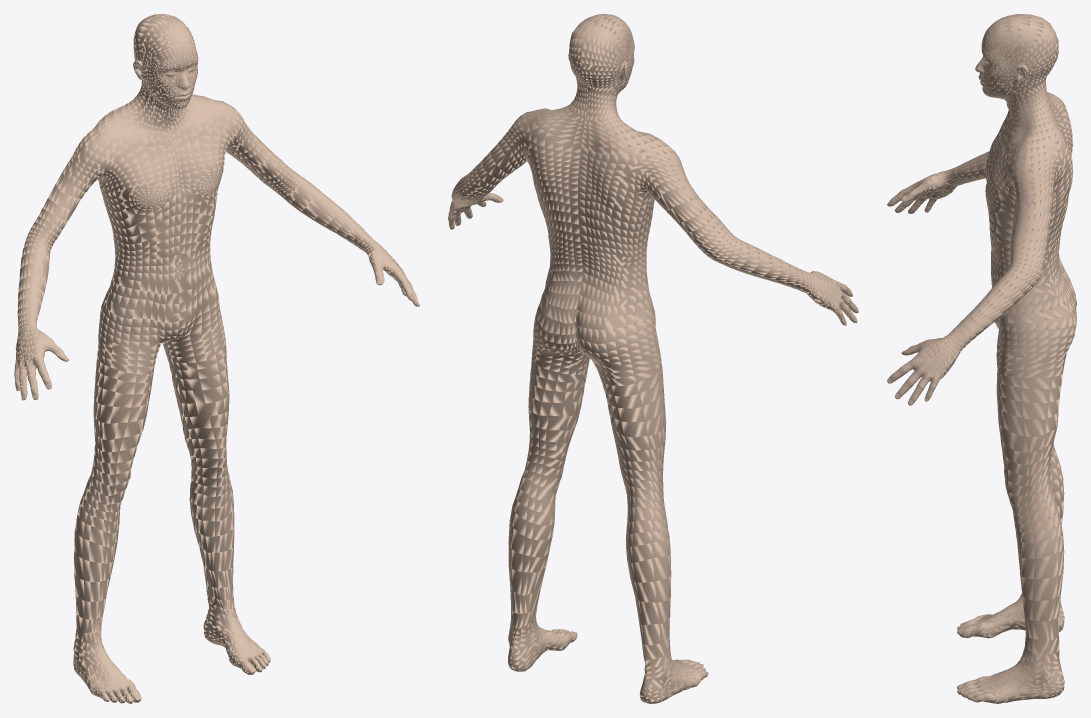
Rendered from male_high_low.glb.
3 views of the same model, side by side, from view 1: azimuth 30°, elevation 25°; view 2: azimuth 150°, elevation 25°; view 3: azimuth 270°, elevation 25° (orthographic).
Parts seen in each view (by area): view 1: male_high_lowMesh; view 2: male_high_lowMesh; view 3: male_high_lowMesh.
Boxes of the visible parts, bbox=[...] form: male_high_lowMesh: bbox=[14, 14, 419, 703]; male_high_lowMesh: bbox=[448, 14, 858, 703]; male_high_lowMesh: bbox=[887, 14, 1076, 703].
Bounding box in the file's own units: 14.37 × 22.49 × 5.97.
